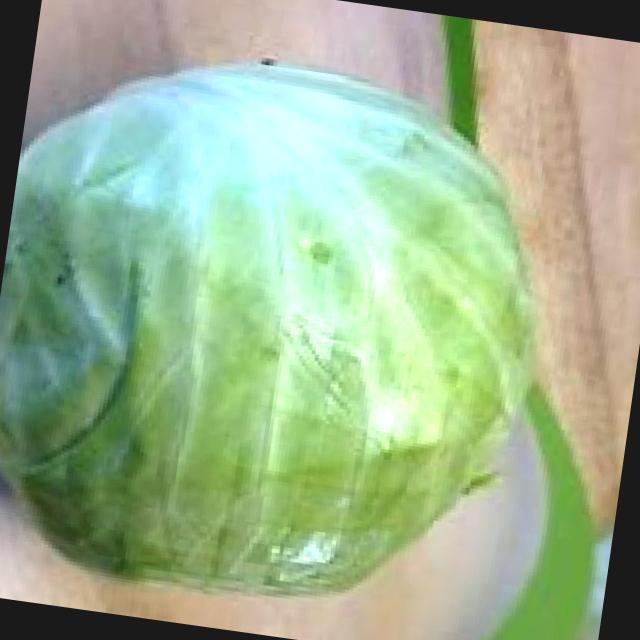cabbage: (0, 23, 558, 637)
